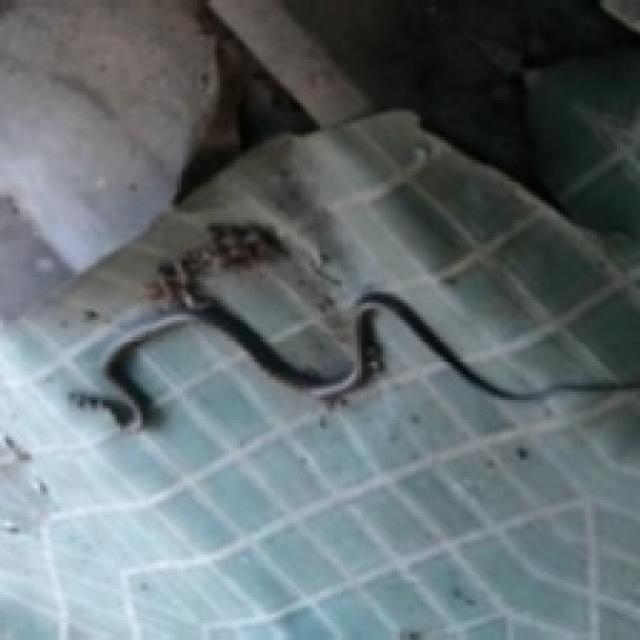paradise tree snake: (74, 223, 637, 426)
